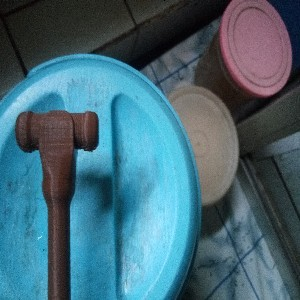palu: (14, 108, 100, 300)
